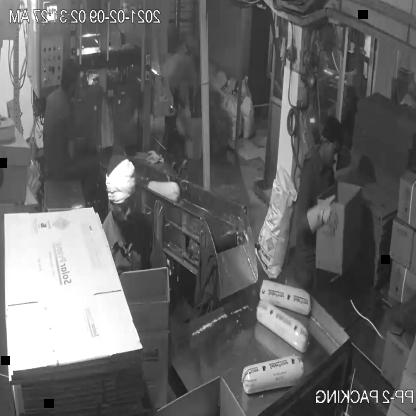glove: (306, 183, 340, 243)
no_glove: (372, 280, 414, 352)
